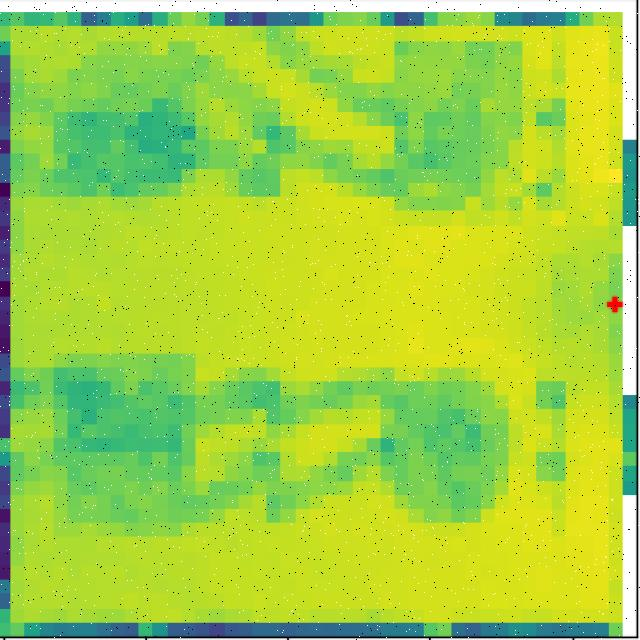Concrete: (392, 41, 524, 207)
Glass: (74, 52, 194, 203)
Metal: (384, 370, 513, 523)
Wood: (49, 355, 201, 529)
